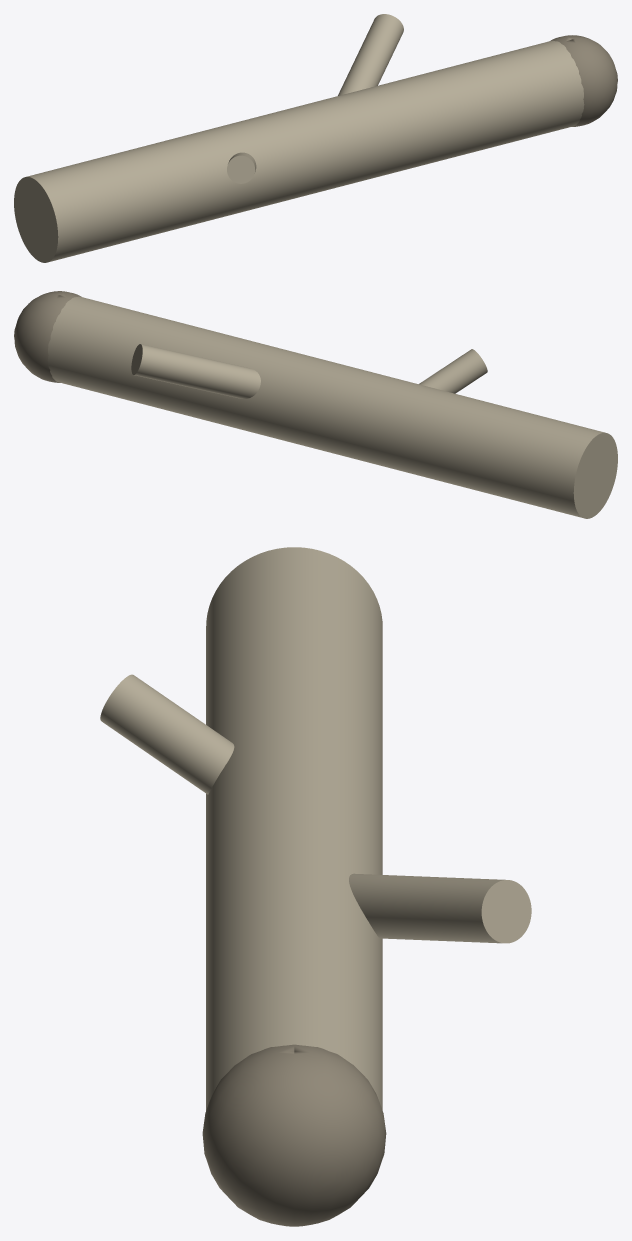
File: f23-driftwood-log.glb
3 renders of one model, top to bottom at view 1: azimuth 30°, elevation 25°; view 2: azimuth 150°, elevation 25°; view 3: azimuth 270°, elevation 25°, orthographic. The views are drawn at different scales.
Visible parts, largest first — view 1: part0, part3, part1, part2; view 2: part0, part1, part3, part2; view 3: part0, part3, part1, part2.
Part boxes in pixels (x1,y1,x2,y2): part0: (14, 40, 584, 262); part3: (550, 35, 617, 126); part1: (338, 14, 403, 95); part2: (227, 152, 256, 183); part0: (47, 296, 617, 518); part1: (131, 344, 260, 398); part3: (14, 291, 81, 382); part2: (419, 349, 487, 393); part0: (206, 547, 382, 1110); part3: (202, 1044, 386, 1226); part1: (349, 873, 531, 943); part2: (100, 674, 234, 794).
Bounding box in the file's own units: 3764 × 685 × 1219.
